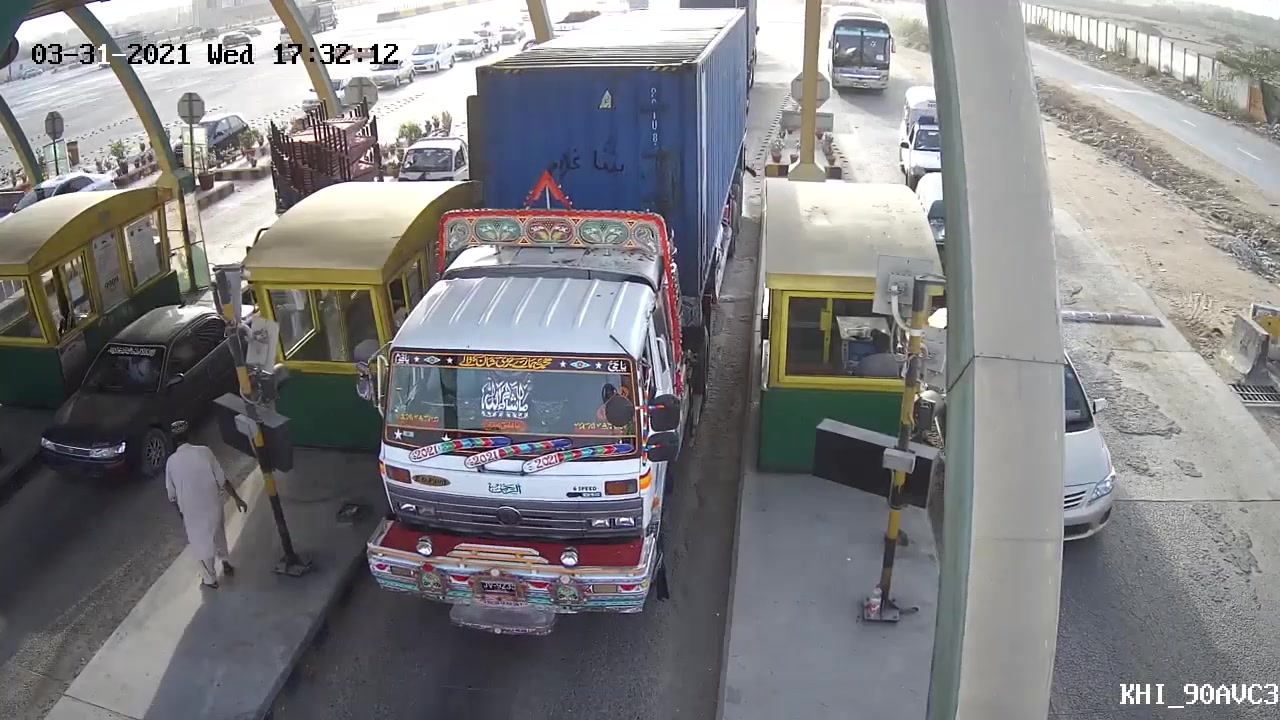F6: (368, 2, 766, 646)
